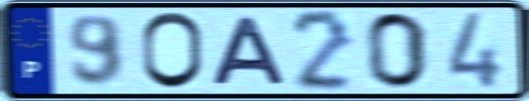0: (363, 11, 436, 91)
2: (286, 7, 360, 95)
4: (443, 10, 508, 92)
9: (66, 12, 127, 90)
A: (209, 14, 290, 88)
O: (139, 9, 207, 92)
